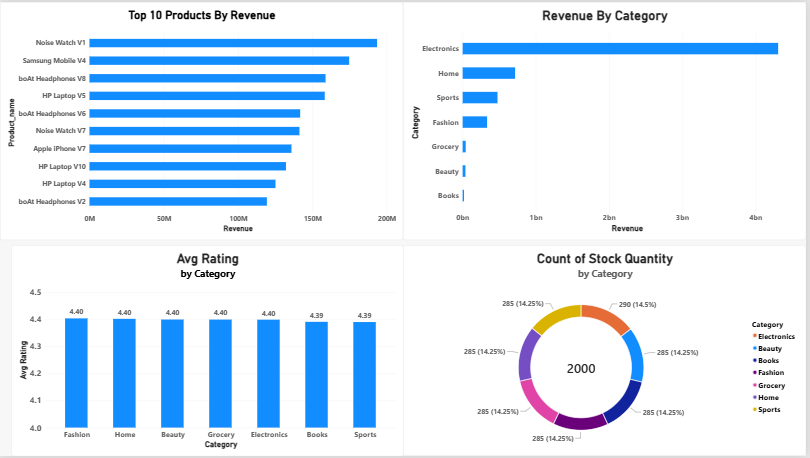

Layout of this report page (visuals, bound fields, positions):
{"tool":"powerbi","page":{"name":"Products ","canvas":[1920,1080],"ordinal":2},"visuals":[{"type":"clusteredBarChart","title":"Top 10 Products By Revenue","fields":{"Category":["products.Product_Name"],"Y":["Sum(sales.Total_Amount)"]},"box":[0,0,960,566.7],"z":0},{"type":"clusteredBarChart","title":"Revenue By Category","fields":{"Category":["products.Category"],"Y":["Sum(sales.Total_Amount)"]},"box":[960,0,960,566.7],"z":1},{"type":"clusteredColumnChart","fields":{"Category":["products.Category"],"Y":["Avg(products.Avg_Rating)"]},"box":[25,577.8,935,502.7],"z":2},{"type":"donutChart","title":"Count of Stock Quantity","fields":{"Category":["products.Category"],"Y":["CountNonNull(products.Stock_Quantity)"]},"box":[960,578,960,502],"z":3}]}

Visuals, with their boxes in screenshot pixels (x1, y1, x2, y2), scaled from the page's 1920x1080 canvas onto the 810x458 screenshot:
"Top 10 Products By Revenue" clusteredBarChart: BBox(0, 0, 405, 240)
"Revenue By Category" clusteredBarChart: BBox(405, 0, 809, 240)
clusteredColumnChart - products.Category x Avg(products.Avg_Rating): BBox(11, 245, 405, 457)
"Count of Stock Quantity" donutChart: BBox(405, 245, 809, 457)
